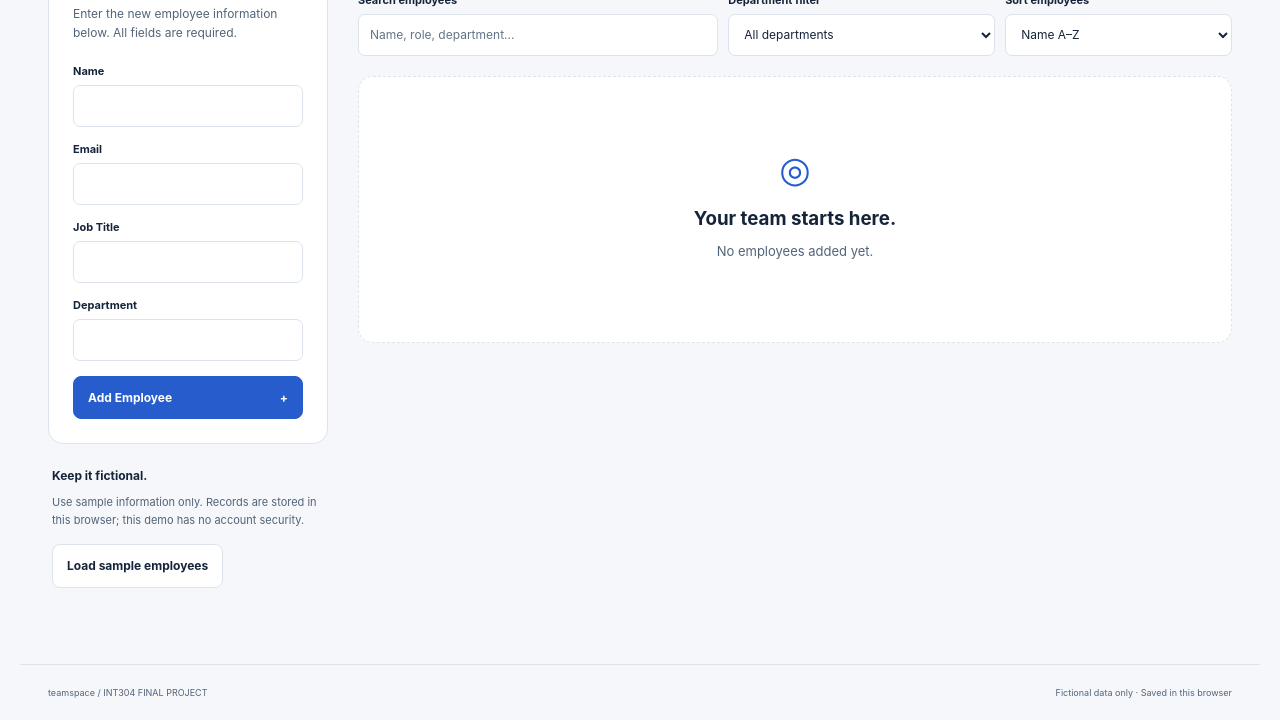
Scenario: loads optional samples and combines live search with department filtering
The width and height of the screenshot is (1280, 720).
(page scrolled)
Click the button "Load sample employees". click: (138, 566)
box: [52,544,223,588]
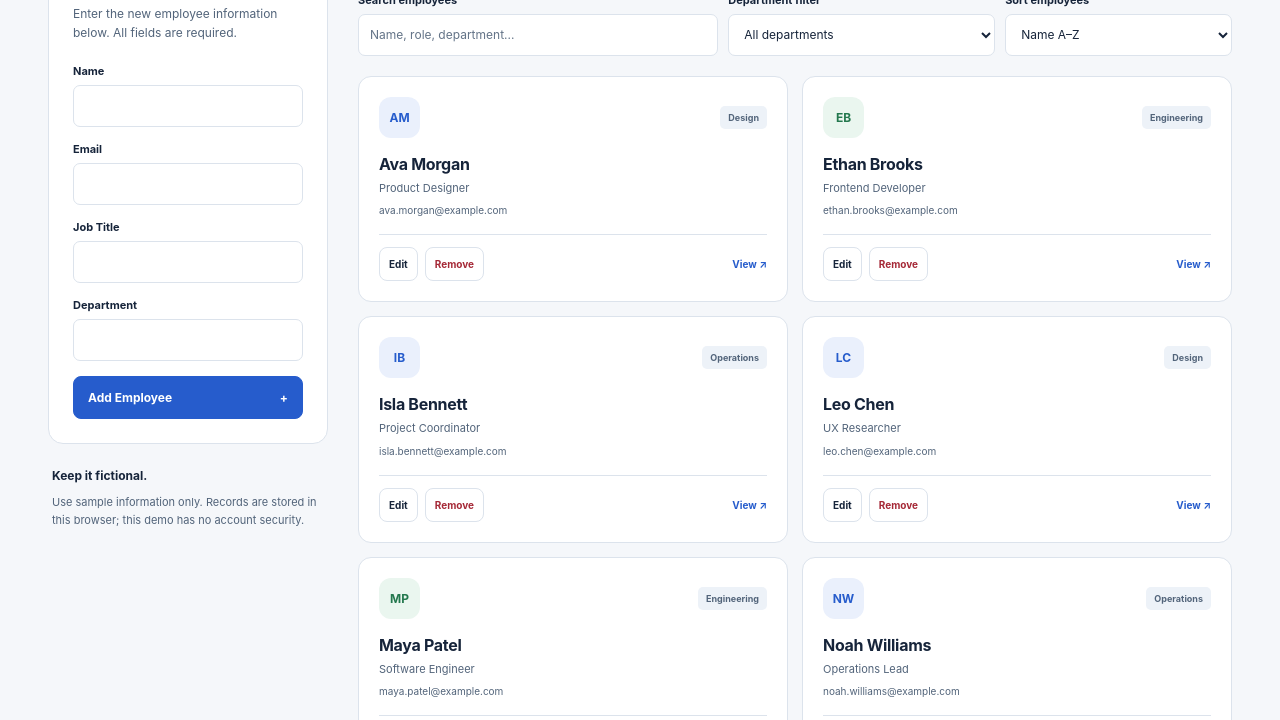
Select "Engineering" in the dropdown labelled "Department filter". click: (862, 35)
box: [728,14,995,56]
(page scrolled)
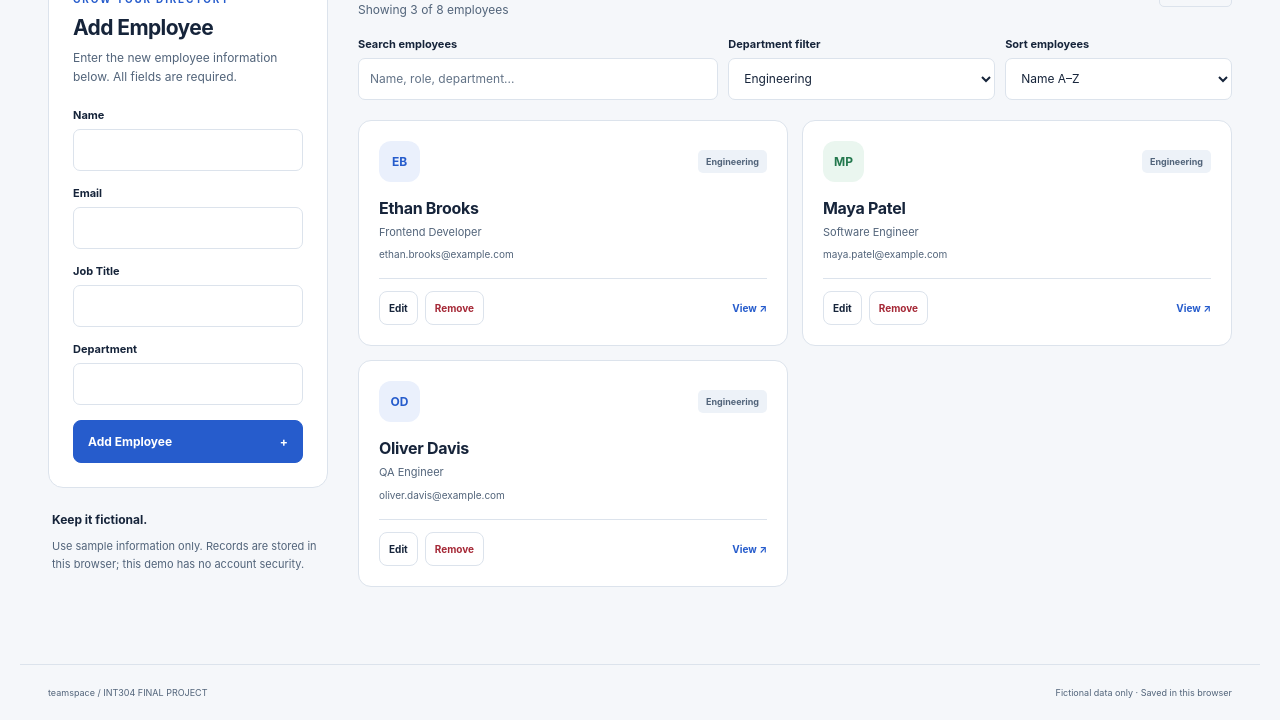
Expected: the text "Showing 3 of 8 employees" is shown, [358,2,508,17]
Type "  MAYA  " into the search field labelled "Search employees". click: (538, 79)
box: [358,58,718,100]
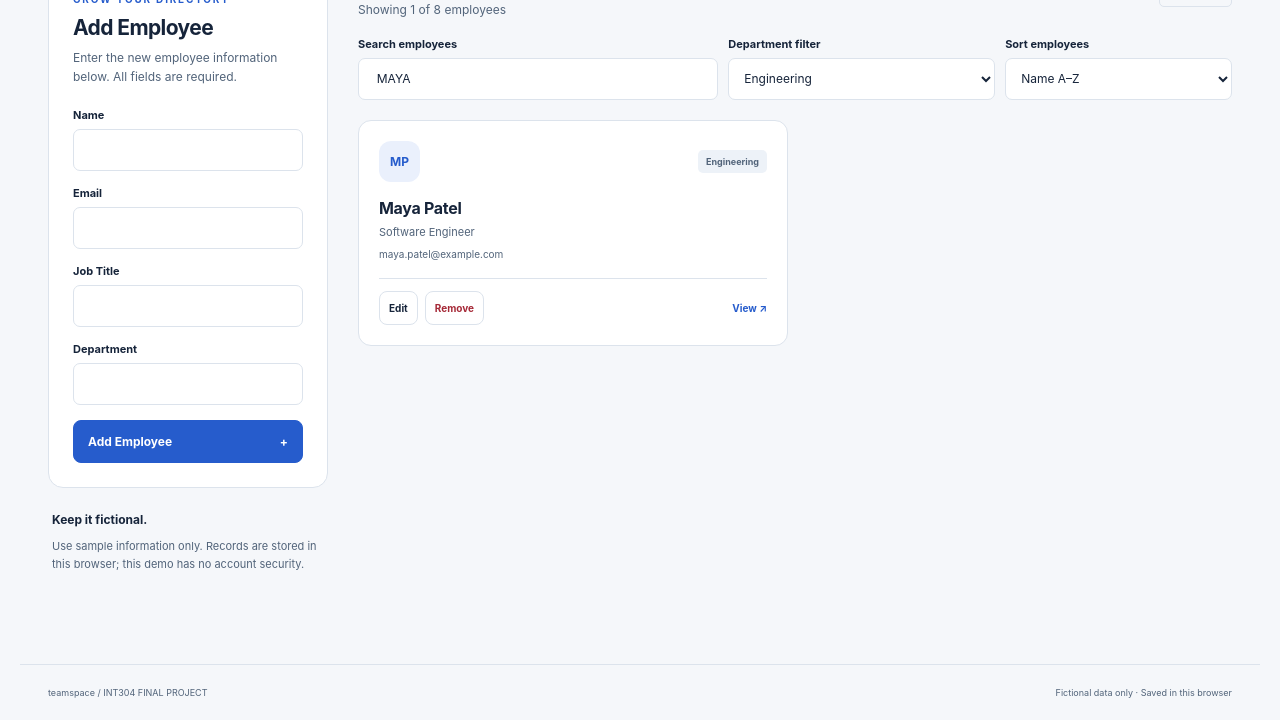
Expected: the link "Maya Patel" is shown, [379,198,462,218]
Expected: the text "Showing 1 of 8 employees" is shown, [358,2,506,17]
Expected: the link "Ethan Brooks" is gone
